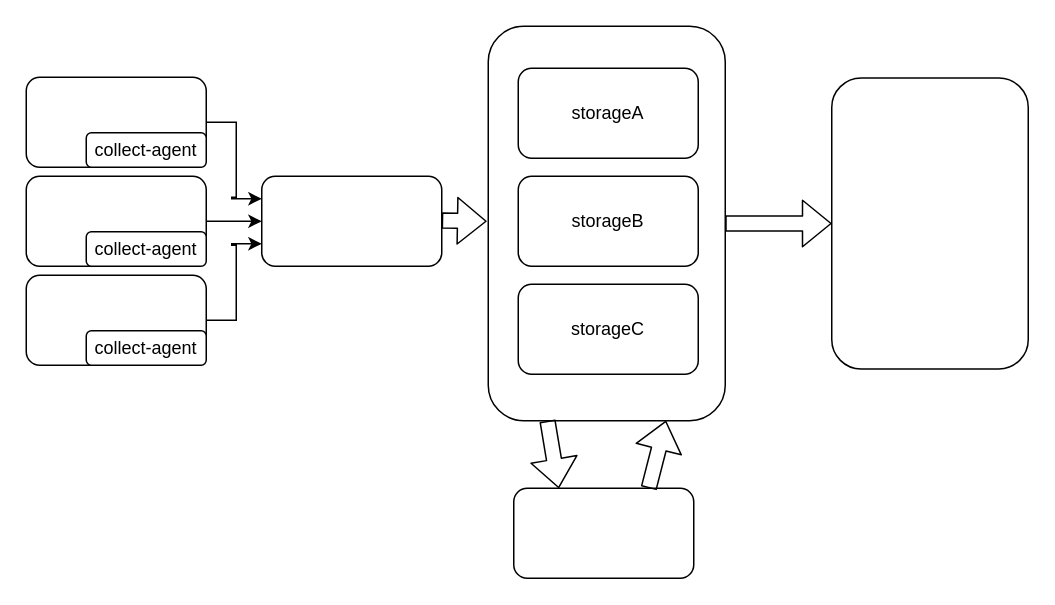
This 1055x605 diagram has some shape labels left out. Here are the shapes that lost their labels. From the top down, the centre of each, then its label:
(351,220): ETL
(929,222): 展示
(603,532): compute
